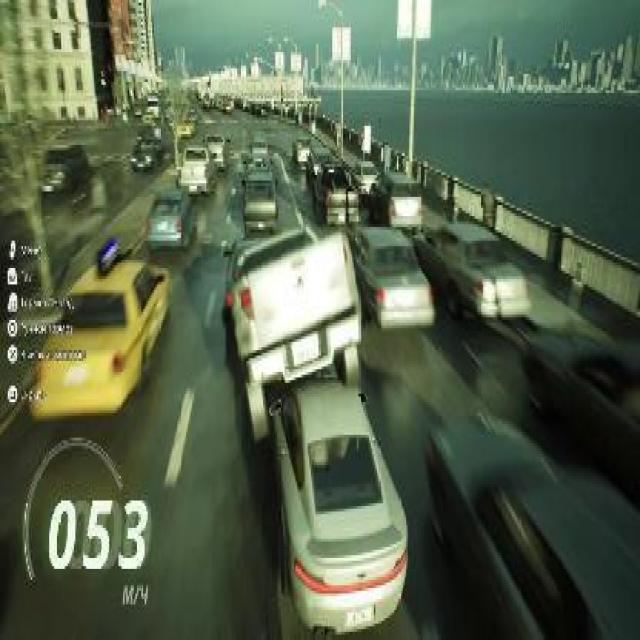accident: (215, 213, 412, 638)
